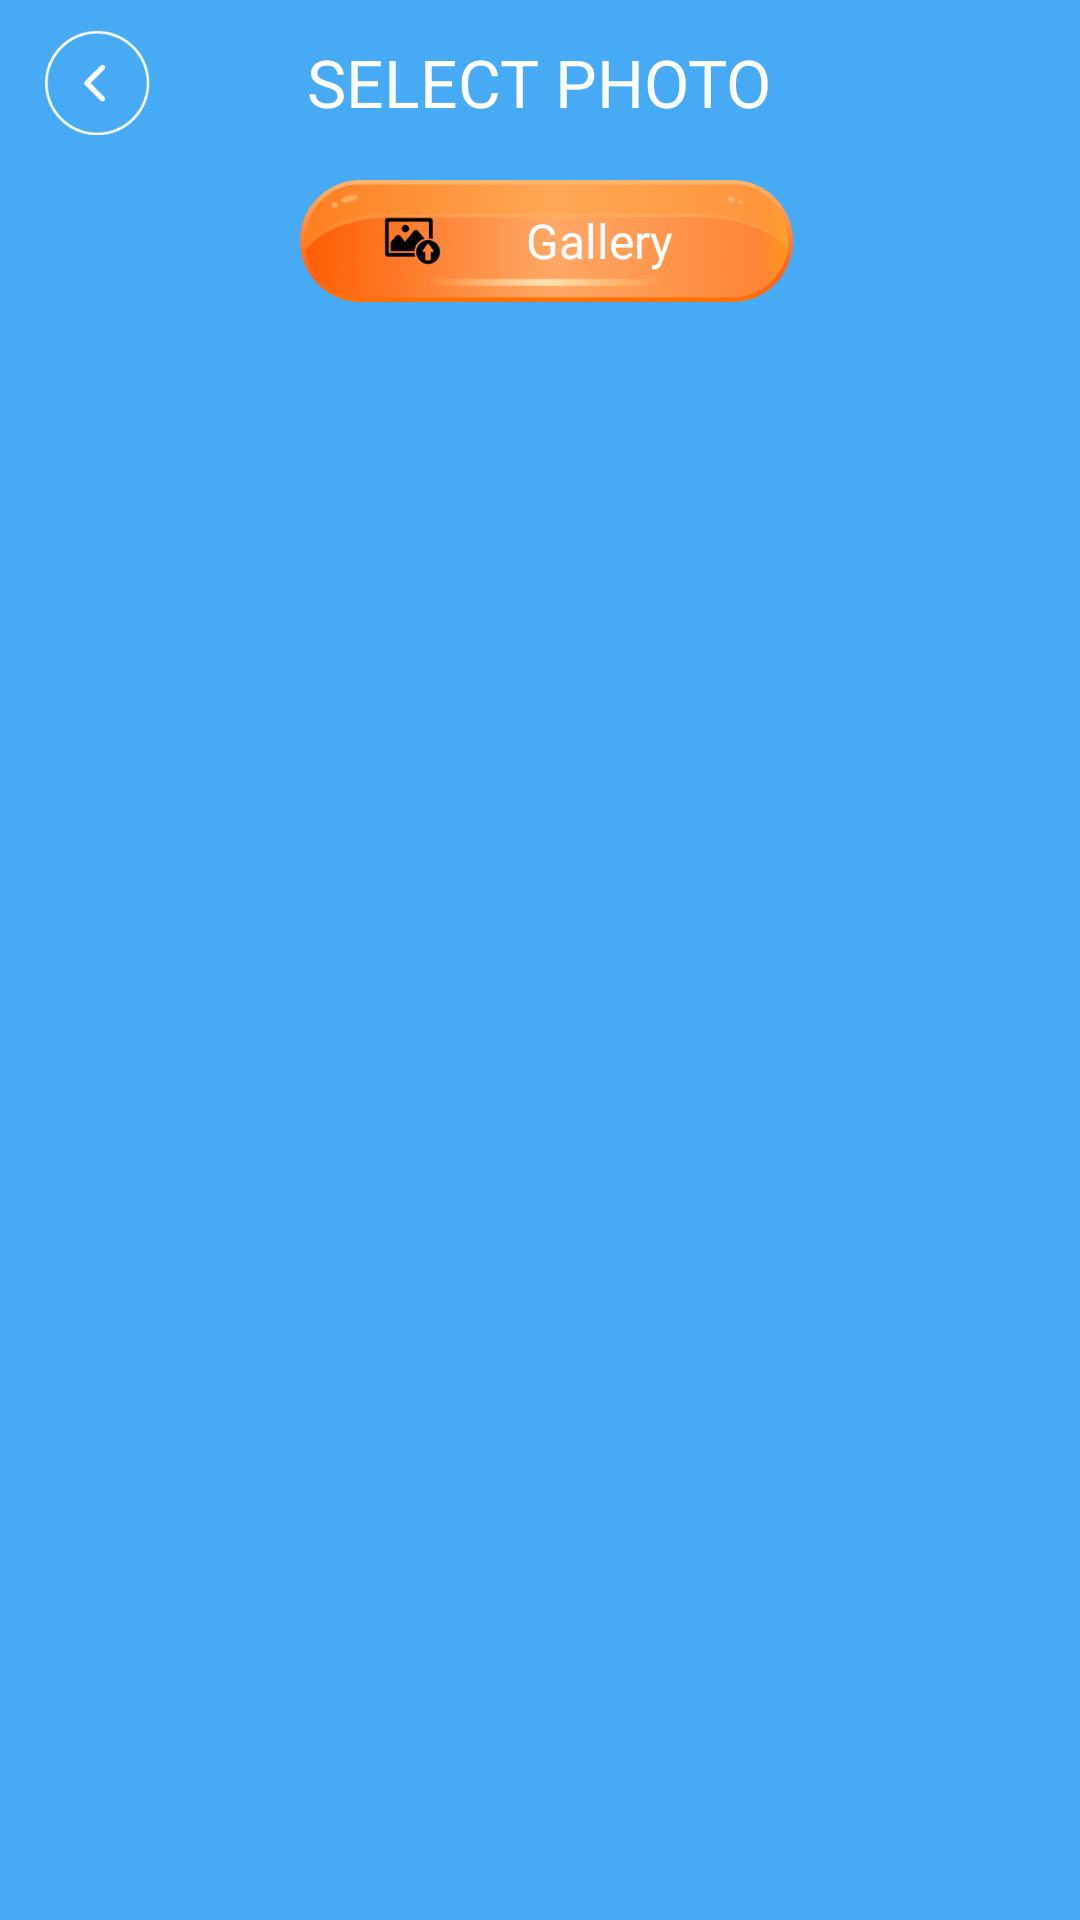

Where icons sit on this 1080 x 1920 app screen, as [x1=x1, y1=y1, x2=x2, y2=y2]:
back: [x1=45, y1=31, x2=150, y2=135]
